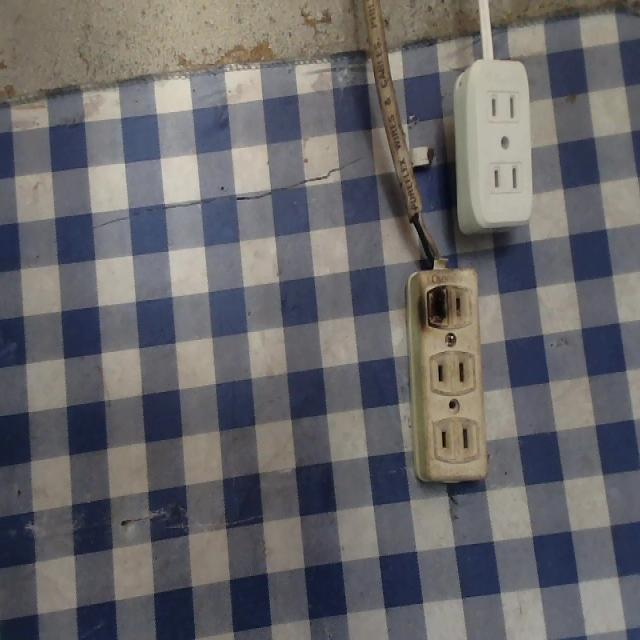-: (420, 276, 457, 341)
